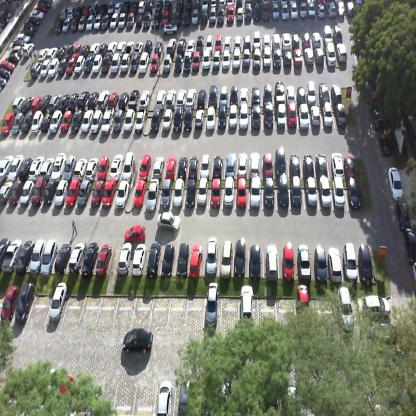car: (14, 280, 36, 324), (336, 286, 354, 335), (366, 323, 398, 348), (48, 281, 68, 321), (0, 284, 20, 324), (0, 238, 23, 272), (360, 293, 390, 319), (14, 236, 34, 275), (122, 330, 154, 354), (204, 280, 218, 331), (263, 374, 280, 415), (342, 240, 358, 282), (178, 378, 196, 415), (41, 237, 58, 276), (296, 283, 310, 330), (358, 243, 374, 284), (156, 378, 173, 416), (42, 365, 58, 405), (239, 283, 254, 325), (81, 241, 98, 277), (68, 240, 86, 274), (387, 164, 403, 202), (95, 243, 112, 277), (314, 243, 328, 283), (117, 240, 133, 275), (146, 240, 161, 277), (282, 240, 295, 282), (161, 243, 176, 279), (30, 238, 45, 274), (157, 210, 180, 233), (54, 243, 71, 274), (328, 245, 342, 282), (297, 244, 311, 281), (60, 374, 76, 406), (132, 242, 147, 276), (234, 236, 246, 278), (176, 241, 189, 279), (205, 235, 217, 276), (266, 243, 278, 283), (220, 240, 232, 280), (65, 177, 80, 209), (31, 175, 46, 207), (318, 175, 332, 209), (146, 178, 160, 212), (347, 176, 361, 209), (102, 177, 117, 207), (249, 243, 261, 280), (190, 242, 202, 279), (28, 154, 45, 180), (7, 156, 24, 182), (396, 201, 410, 232), (90, 178, 104, 209), (8, 180, 24, 207), (52, 151, 68, 178), (220, 378, 232, 414), (277, 173, 289, 208), (116, 178, 130, 208), (77, 178, 91, 208), (54, 178, 68, 208), (332, 177, 345, 209), (290, 175, 302, 209), (149, 105, 163, 134), (16, 156, 32, 181), (122, 151, 136, 179), (123, 224, 146, 241), (330, 151, 345, 177), (42, 180, 57, 206), (109, 151, 124, 177), (403, 232, 415, 264), (377, 132, 391, 159), (20, 178, 33, 207), (0, 180, 15, 205), (250, 176, 261, 210), (210, 176, 221, 210), (80, 106, 94, 132), (0, 236, 11, 269), (263, 176, 274, 209), (343, 154, 358, 178), (305, 177, 317, 207), (0, 154, 15, 178), (161, 176, 172, 208), (139, 154, 152, 181), (70, 107, 84, 132), (10, 111, 24, 136), (1, 110, 15, 135), (134, 180, 146, 209), (134, 108, 147, 134), (90, 108, 103, 134), (182, 105, 194, 133), (49, 109, 63, 133), (275, 145, 286, 175), (223, 176, 233, 209), (85, 156, 100, 178), (59, 110, 73, 133), (237, 177, 247, 209), (173, 178, 183, 210), (322, 101, 333, 130), (165, 156, 178, 180), (152, 154, 165, 178), (172, 106, 184, 132), (123, 109, 135, 135), (101, 109, 113, 135), (31, 110, 44, 134), (186, 178, 196, 209), (198, 177, 208, 207), (264, 100, 274, 130), (20, 111, 33, 134), (298, 105, 309, 132), (40, 156, 54, 177), (96, 86, 110, 107), (287, 100, 297, 129), (302, 151, 314, 175), (98, 155, 110, 179), (274, 78, 286, 102), (112, 109, 124, 133), (335, 102, 346, 128), (228, 105, 239, 131), (161, 107, 172, 133), (138, 88, 151, 110), (239, 104, 249, 132), (64, 155, 76, 178), (186, 84, 198, 107), (225, 151, 236, 176), (74, 156, 87, 177), (373, 108, 386, 129), (217, 103, 227, 130), (316, 151, 327, 175), (207, 82, 218, 106), (139, 50, 150, 74), (263, 152, 273, 178), (250, 150, 260, 176), (306, 80, 316, 106), (276, 102, 286, 128), (206, 106, 216, 132), (155, 87, 168, 107), (237, 151, 248, 174), (149, 51, 160, 74), (110, 52, 121, 75), (12, 95, 26, 113), (76, 90, 90, 108), (200, 152, 210, 177), (326, 43, 336, 68), (21, 94, 34, 113), (188, 155, 199, 177), (336, 42, 347, 64), (120, 51, 131, 73), (251, 106, 261, 130), (48, 92, 63, 108), (222, 48, 232, 72), (38, 92, 51, 110), (319, 82, 330, 103), (83, 53, 94, 74), (47, 57, 58, 78), (290, 152, 300, 175), (178, 155, 188, 178), (311, 105, 321, 128), (183, 49, 193, 72), (162, 51, 172, 74), (130, 53, 140, 76), (212, 155, 223, 175), (331, 82, 342, 102), (252, 84, 262, 106), (304, 46, 314, 68), (202, 50, 212, 72), (192, 50, 202, 72), (66, 54, 77, 74), (368, 89, 378, 111), (128, 88, 140, 106), (173, 52, 182, 76), (30, 61, 42, 79), (176, 88, 187, 107), (101, 53, 112, 72), (74, 56, 85, 75), (232, 47, 241, 70), (194, 109, 204, 129), (323, 24, 333, 44), (262, 47, 272, 67), (40, 59, 50, 79), (230, 82, 239, 104), (219, 84, 228, 106), (166, 88, 177, 106), (313, 47, 324, 65), (57, 58, 68, 76), (30, 94, 43, 109), (118, 91, 130, 107), (107, 91, 119, 107), (40, 114, 52, 130), (87, 90, 99, 106), (286, 84, 296, 103), (92, 54, 102, 73), (264, 82, 273, 103), (23, 41, 34, 58), (242, 48, 250, 71), (240, 84, 249, 104), (196, 88, 206, 106), (332, 25, 342, 43), (294, 48, 303, 68), (283, 48, 292, 68), (142, 11, 152, 29), (253, 48, 261, 70), (15, 31, 31, 42), (68, 91, 78, 108), (311, 30, 321, 47), (300, 29, 310, 46), (176, 36, 186, 53), (1, 60, 15, 72), (163, 23, 177, 35), (58, 93, 69, 108), (62, 17, 73, 32), (355, 0, 366, 15), (281, 2, 290, 20), (327, 1, 336, 19), (298, 84, 306, 104), (282, 32, 292, 48), (272, 32, 282, 48), (272, 50, 280, 70), (212, 50, 220, 70), (195, 34, 205, 50), (166, 36, 176, 52), (85, 14, 95, 30), (109, 12, 119, 28), (216, 5, 224, 25), (226, 4, 234, 24), (106, 41, 118, 54), (9, 45, 23, 56), (242, 32, 251, 49), (152, 11, 161, 28), (252, 29, 260, 48), (209, 6, 217, 25), (262, 2, 270, 21), (262, 33, 272, 48), (222, 34, 232, 49), (30, 9, 45, 19), (54, 19, 64, 34), (292, 32, 300, 50), (214, 32, 222, 50), (88, 42, 100, 54), (24, 21, 36, 33), (36, 1, 48, 13), (100, 15, 109, 31), (126, 13, 135, 29), (182, 10, 191, 26), (192, 7, 200, 25), (290, 1, 298, 19), (299, 1, 307, 19), (347, 0, 355, 18), (59, 5, 70, 18), (232, 33, 242, 47), (116, 40, 126, 54), (72, 42, 82, 56), (118, 13, 126, 30), (236, 7, 244, 24), (244, 6, 252, 23), (78, 15, 87, 30), (93, 14, 102, 29), (174, 10, 182, 26), (200, 10, 208, 26), (317, 2, 325, 18), (337, 2, 345, 18), (135, 14, 144, 28), (161, 10, 170, 24), (154, 38, 162, 53), (134, 39, 144, 51), (124, 40, 134, 52), (64, 42, 74, 54), (70, 16, 78, 31), (206, 33, 213, 50), (0, 67, 9, 80), (6, 54, 19, 63), (27, 17, 40, 26), (273, 1, 279, 20), (39, 0, 53, 8), (47, 46, 57, 57), (122, 0, 132, 11), (154, 0, 164, 11), (144, 38, 153, 50), (56, 46, 65, 58), (254, 3, 260, 21), (308, 1, 314, 19), (137, 0, 146, 12), (66, 6, 76, 16), (74, 6, 84, 16), (99, 42, 108, 53), (82, 5, 91, 16), (175, 0, 184, 11), (187, 40, 195, 52), (107, 0, 115, 12), (130, 0, 138, 12), (146, 0, 154, 12), (81, 44, 90, 54), (39, 48, 48, 58), (163, 0, 172, 10), (14, 38, 26, 45), (90, 3, 98, 13), (114, 1, 122, 11), (100, 3, 108, 12), (185, 0, 193, 8), (201, 0, 209, 8)
